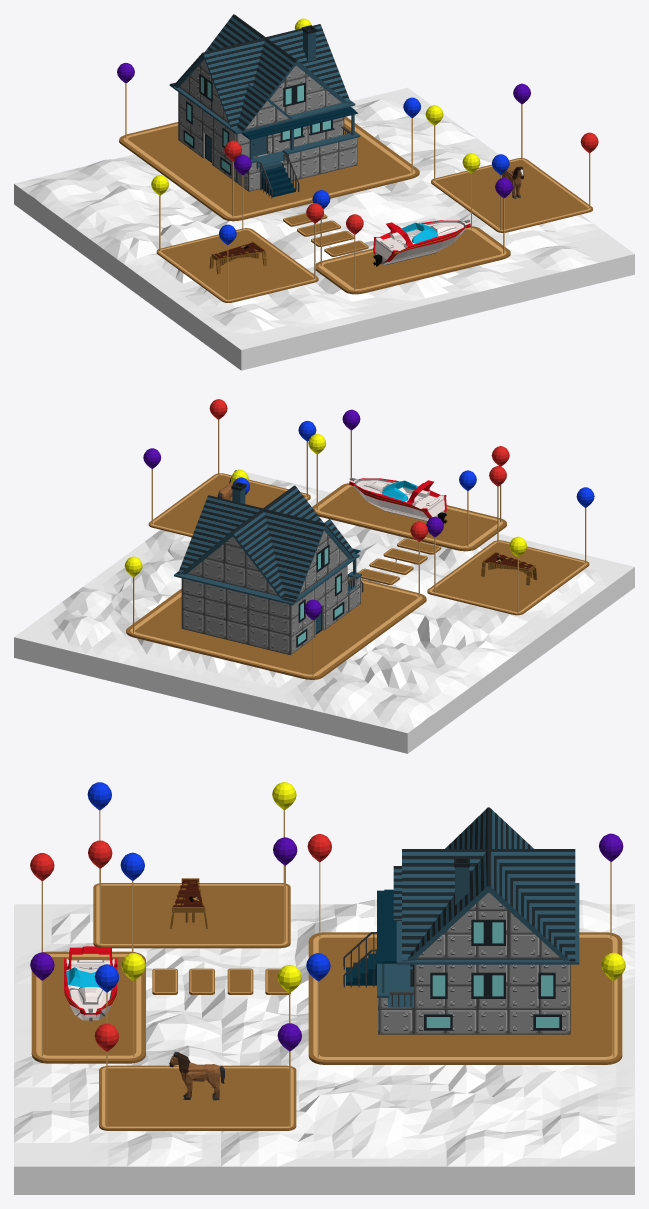
3 views of the same model, one above another, from view 1: azimuth 30°, elevation 25°; view 2: azimuth 150°, elevation 25°; view 3: azimuth 270°, elevation 25° (orthographic). The views are drawn at different scales.
Parts seen in each view (by area): view 1: Cube.013, Cube.078, VEHICLES_BOAT, OBJRANDOM_MARIMBA; view 2: Cube.013, Cube.078, VEHICLES_BOAT, OBJRANDOM_MARIMBA; view 3: Cube.013, Cube.078, VEHICLES_BOAT, ANIMAL_CABALLO, OBJRANDOM_MARIMBA.
Part boxes in pixels (box(x1,y1,x2,y2)): Cube.013: box(14, 18, 634, 370); Cube.078: box(169, 14, 360, 198); VEHICLES_BOAT: box(373, 219, 470, 266); OBJRANDOM_MARIMBA: box(209, 241, 266, 274); Cube.013: box(14, 399, 634, 753); Cube.078: box(174, 482, 363, 655); VEHICLES_BOAT: box(349, 477, 447, 523); OBJRANDOM_MARIMBA: box(481, 551, 537, 585); Cube.013: box(14, 782, 634, 1194); Cube.078: box(343, 807, 579, 1034); VEHICLES_BOAT: box(64, 946, 117, 1021); ANIMAL_CABALLO: box(169, 1051, 224, 1100); OBJRANDOM_MARIMBA: box(170, 878, 207, 928).
Bounding box in the file's own units: 4000 × 1711 × 4000.
Materials: 34 (4 with a texture image).
